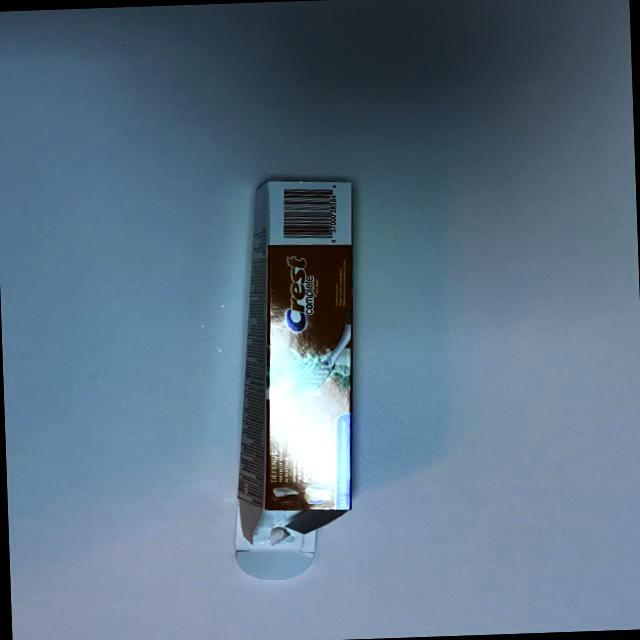paper: (175, 165, 382, 594)
